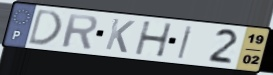2: (206, 27, 241, 67)
D: (25, 7, 64, 46)
H: (133, 20, 175, 59)
I: (175, 24, 195, 61)
K: (103, 17, 137, 55)
R: (60, 12, 99, 51)
